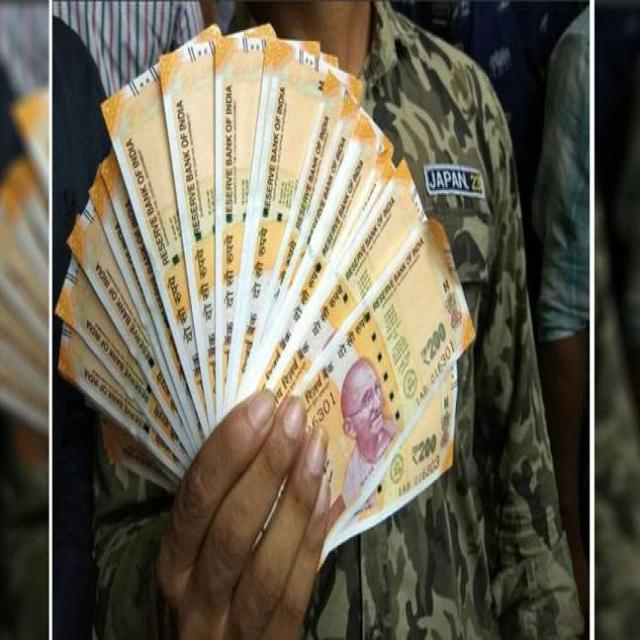200IndianRupees: (299, 211, 481, 512)
